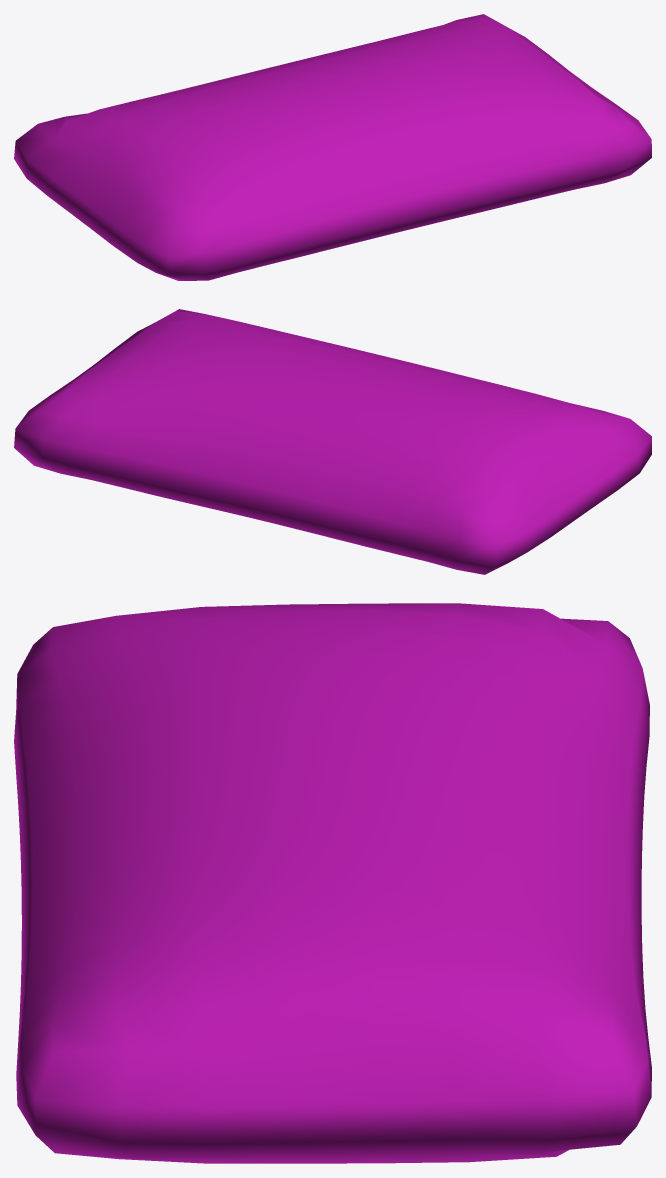
Rendered from Pillow.fbx.
3 views of the same model, one above another, from view 1: azimuth 30°, elevation 25°; view 2: azimuth 150°, elevation 25°; view 3: azimuth 270°, elevation 25° (orthographic). The views are drawn at different scales.
Visible parts, largest first — view 1: TestExportPillow; view 2: TestExportPillow; view 3: TestExportPillow.
Part boxes in pixels (x1=…): TestExportPillow: x1=14, y1=14, x2=651, y2=280; TestExportPillow: x1=14, y1=309, x2=651, y2=574; TestExportPillow: x1=14, y1=603, x2=651, y2=1163.
Size of the model in its own units: 7.27 by 1.46 by 4.13.
